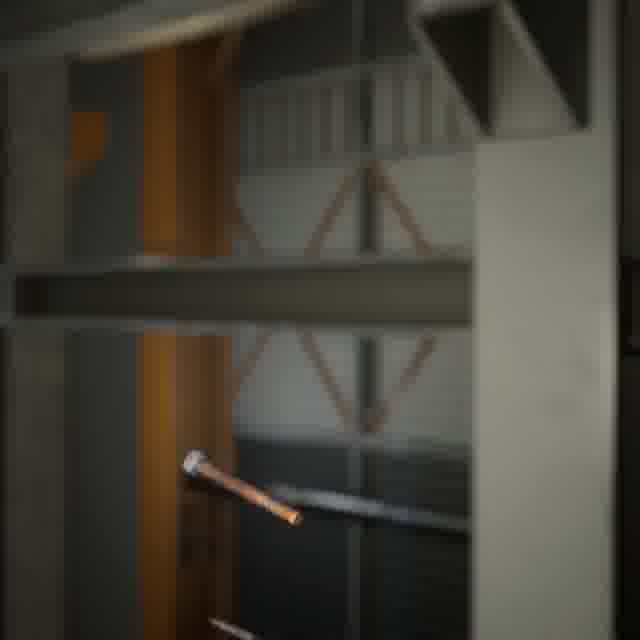bolt: (178, 445, 306, 530), (204, 613, 283, 640)
